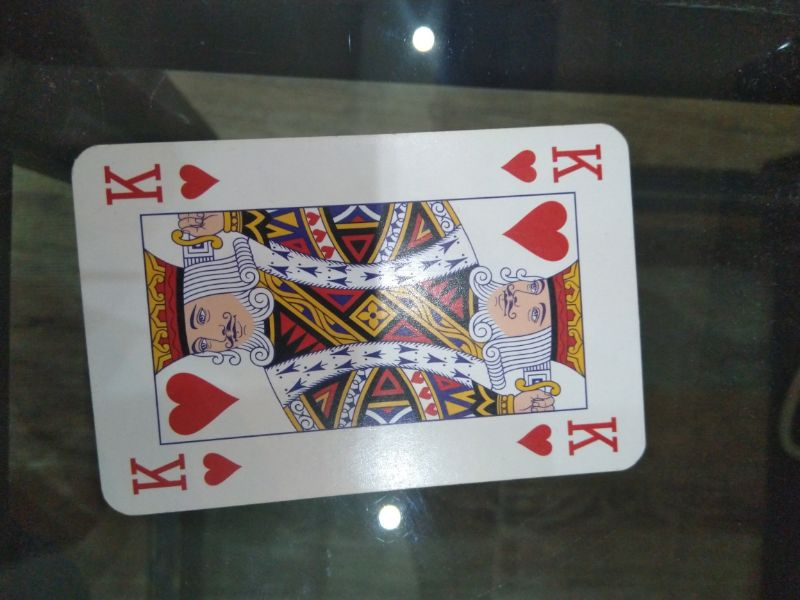Kh: (100, 159, 223, 208), (128, 448, 246, 496), (498, 142, 608, 187), (515, 417, 622, 460)
